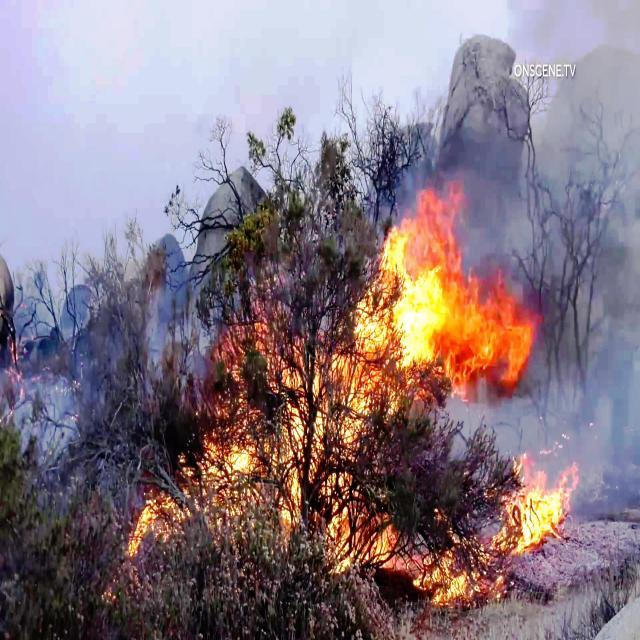Fire: (376, 212, 542, 413)
